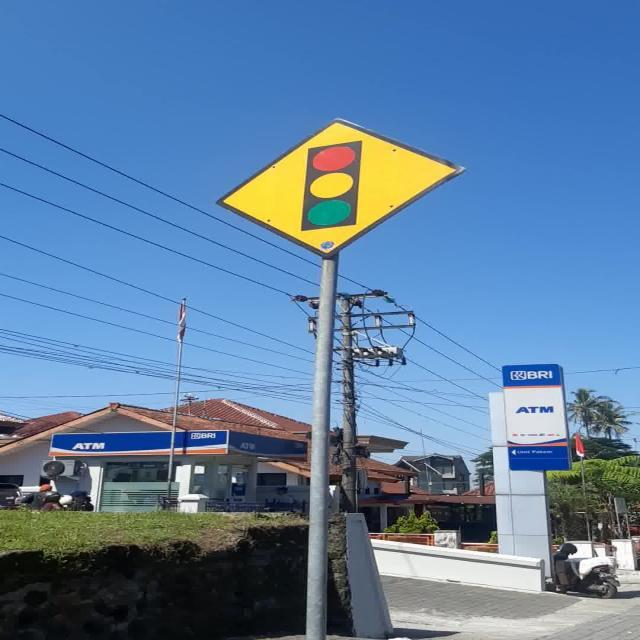Lampu Lalu Lintas: (214, 118, 466, 259)
